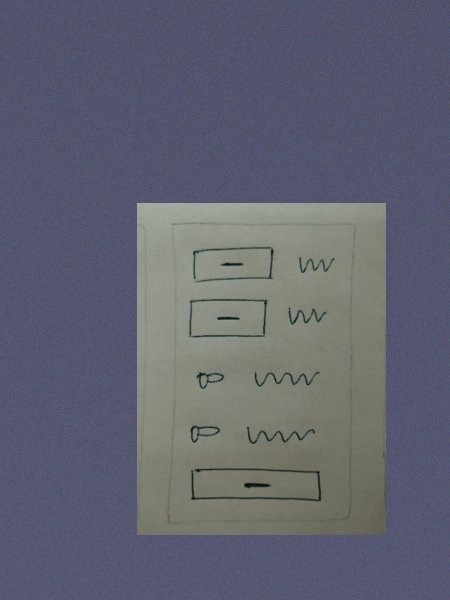button: (190, 464, 324, 509), (186, 296, 271, 344), (190, 243, 276, 285)
switch: (185, 421, 226, 449), (191, 365, 227, 391)
text: (241, 424, 320, 450), (252, 364, 320, 390), (281, 301, 329, 331), (293, 251, 336, 278)
